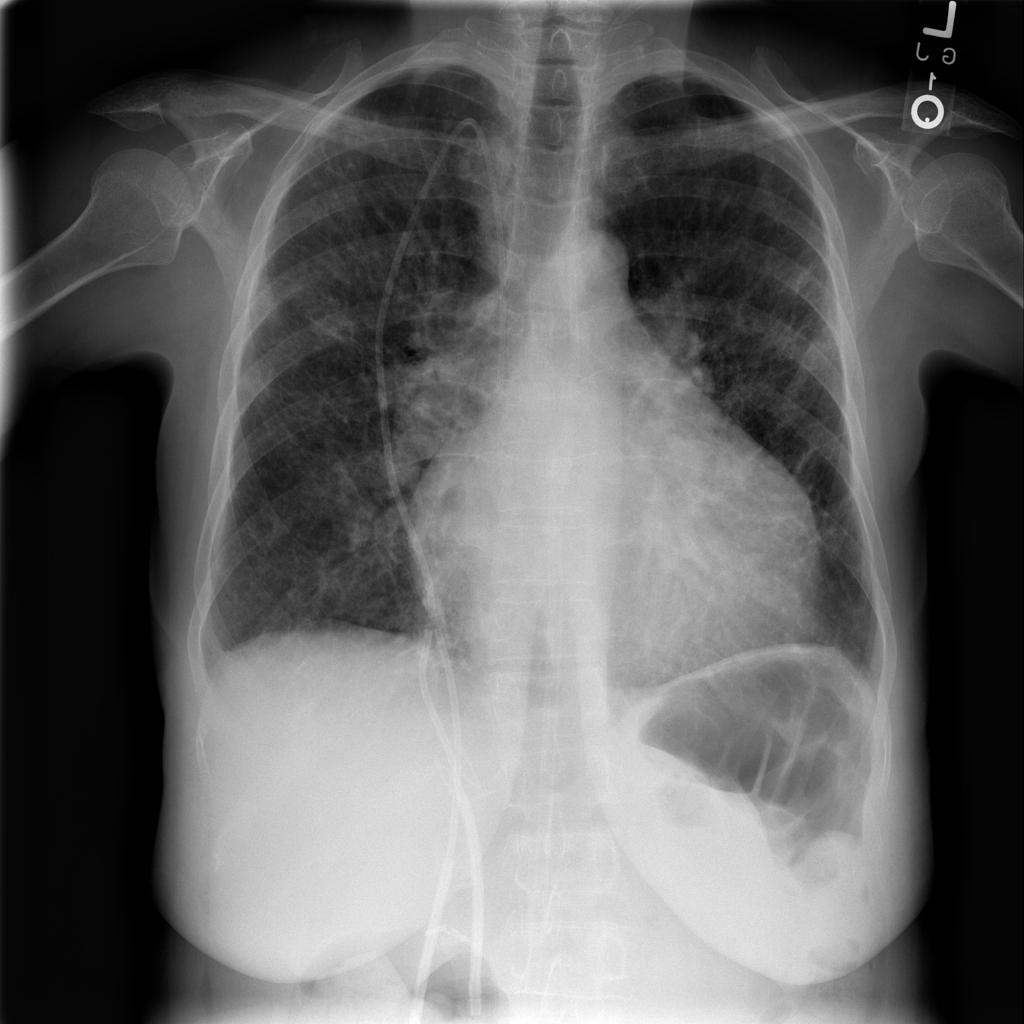Cardiomegaly: (368, 333, 848, 707)
